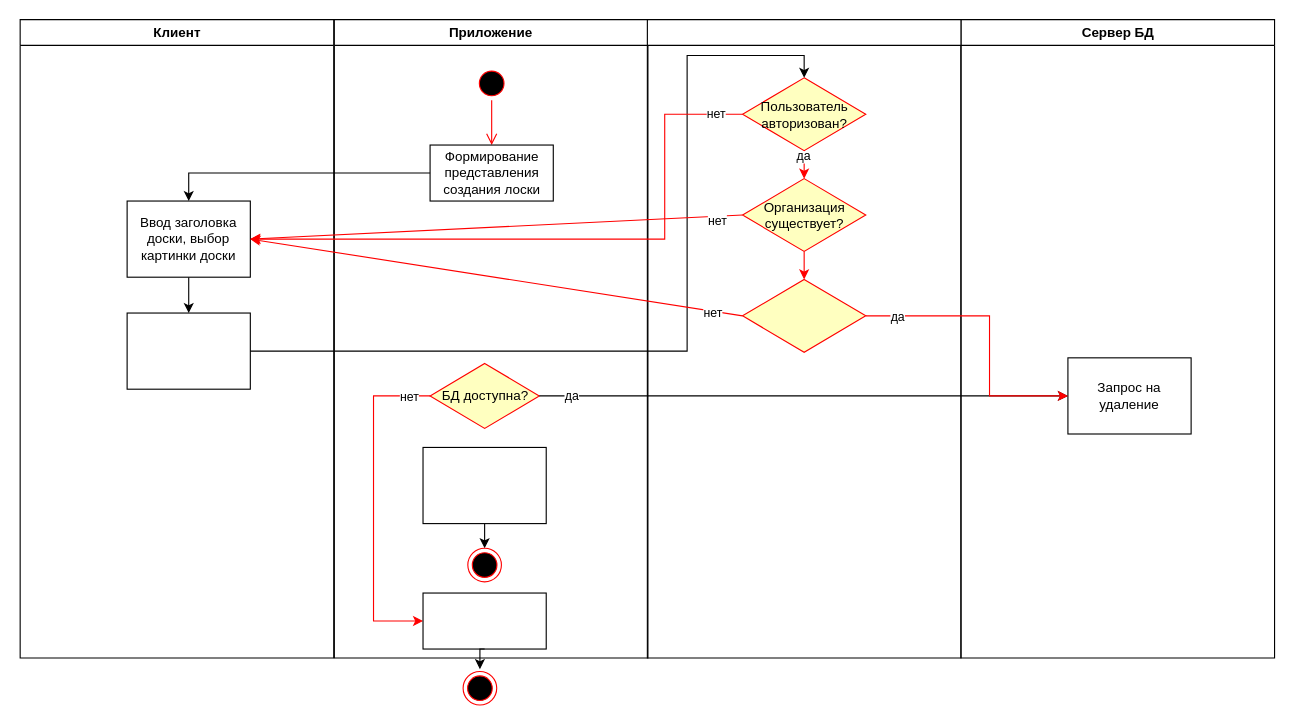
This 1294x725 diagram has some shape labels left out. Here are the shapes that lost their labels. From the top down, the box of each, then its label:
(741, 278, 866, 352): Данные корректны?
(126, 312, 250, 389): Создать доску
(646, 18, 961, 658): MIddleware
(422, 446, 546, 524): Создать запись в БД и отрисовать пользовательскую доску
(422, 592, 546, 649): Отрисовать ошибку
